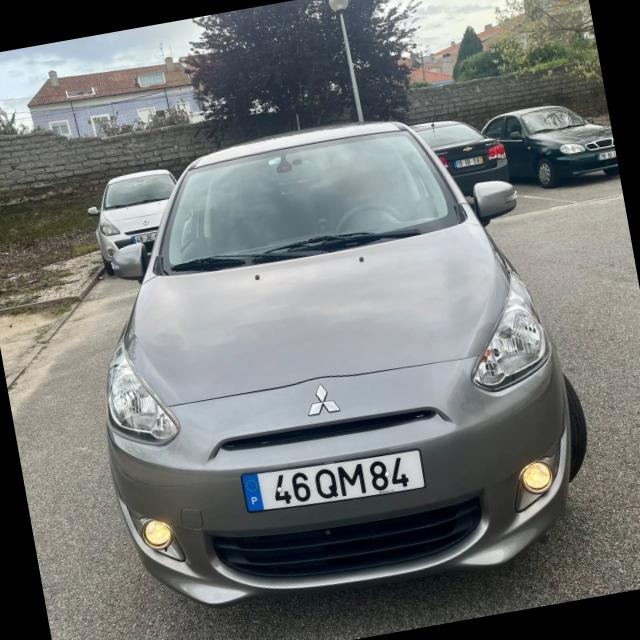portuguese-license-plates: (238, 442, 433, 522)
